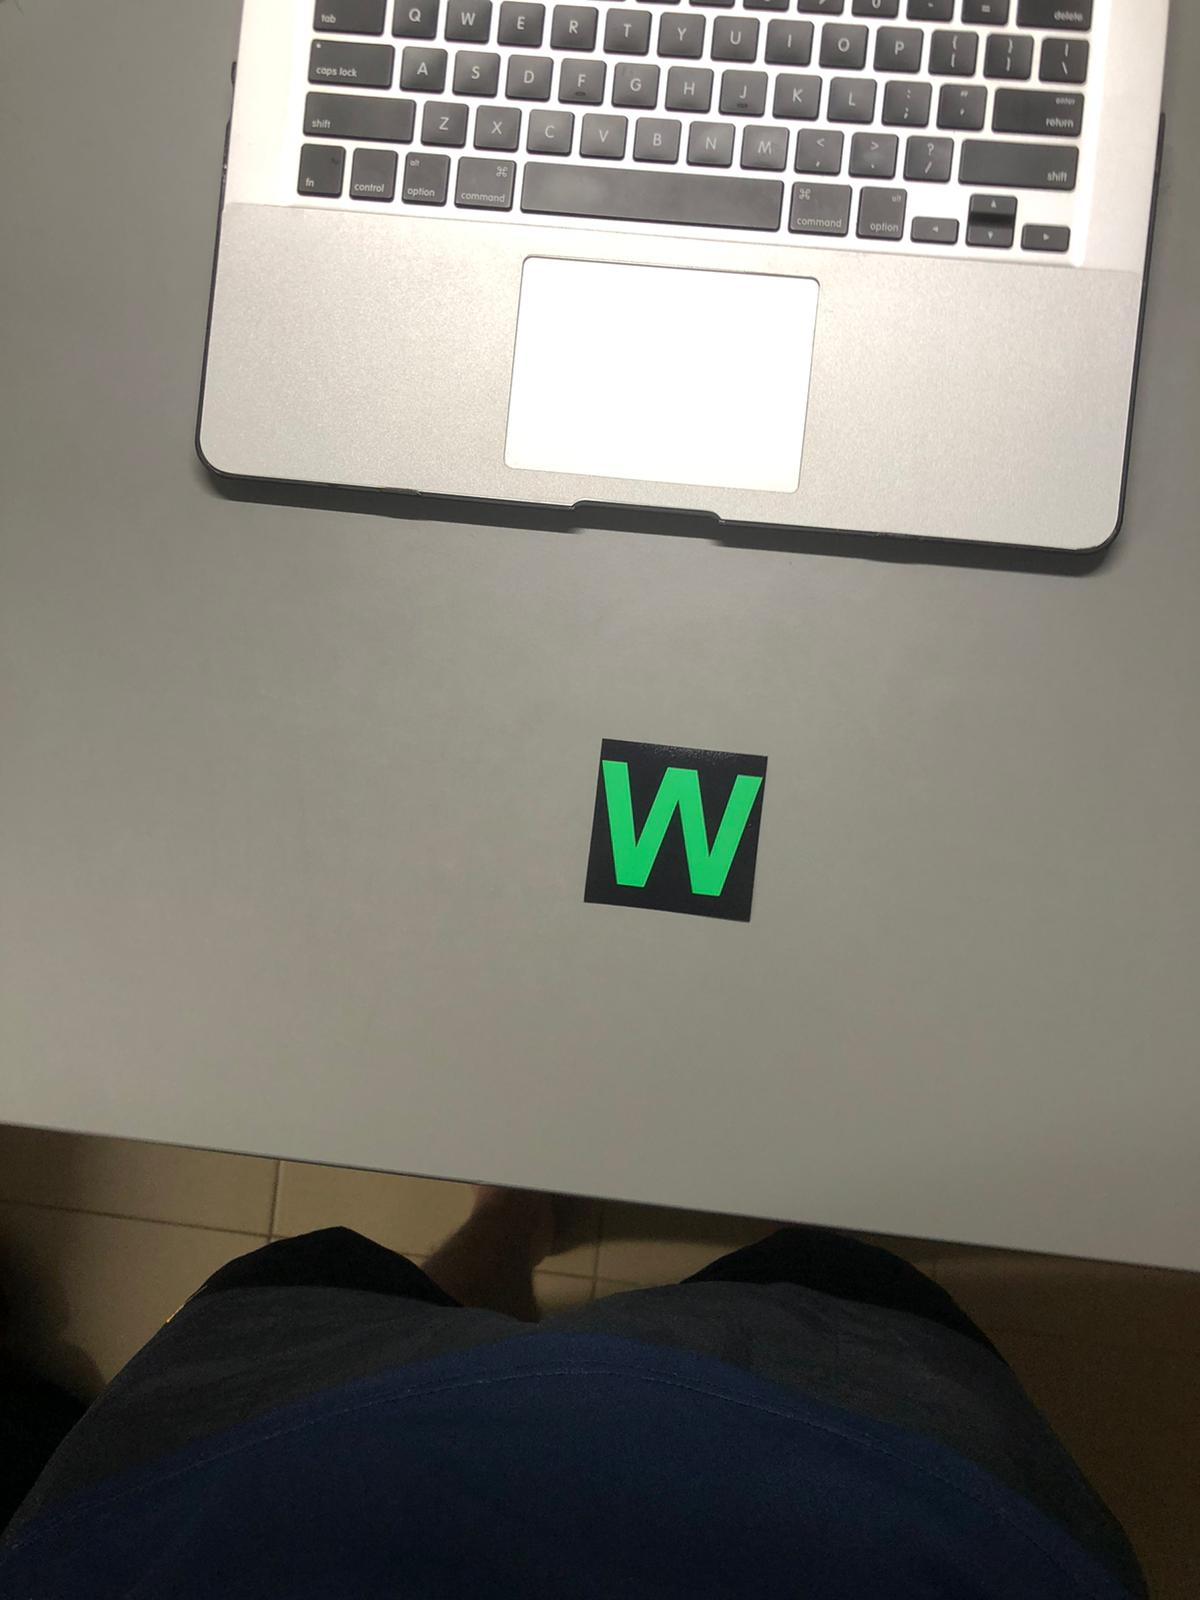W: (584, 743, 763, 908)
